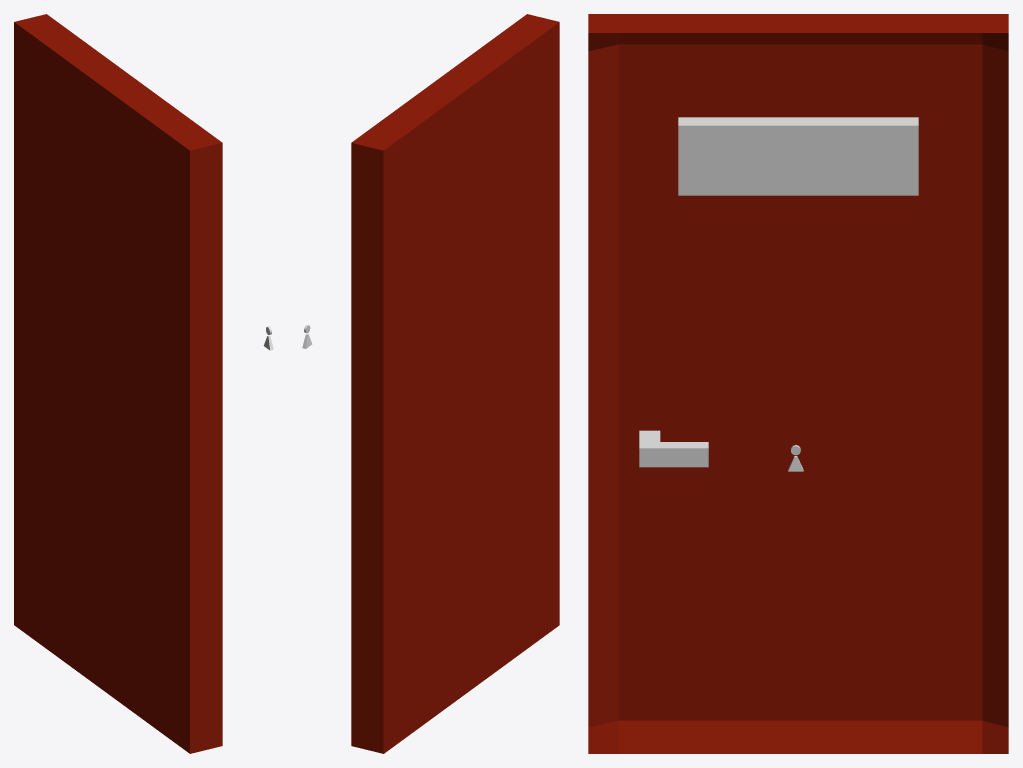
File: body.fbx
3 views of the same model, side by side, from view 1: azimuth 30°, elevation 25°; view 2: azimuth 150°, elevation 25°; view 3: azimuth 270°, elevation 25° (orthographic). The views are drawn at different scales.
Parts seen in each view (by area): view 1: Cube; view 2: Cube; view 3: Cube.
Part boxes in pixels (bbox=[...]): Cube: bbox=[14, 14, 222, 753]; Cube: bbox=[351, 14, 559, 753]; Cube: bbox=[588, 14, 1008, 753].
Size of the model in its own units: 110 by 378 by 200.
